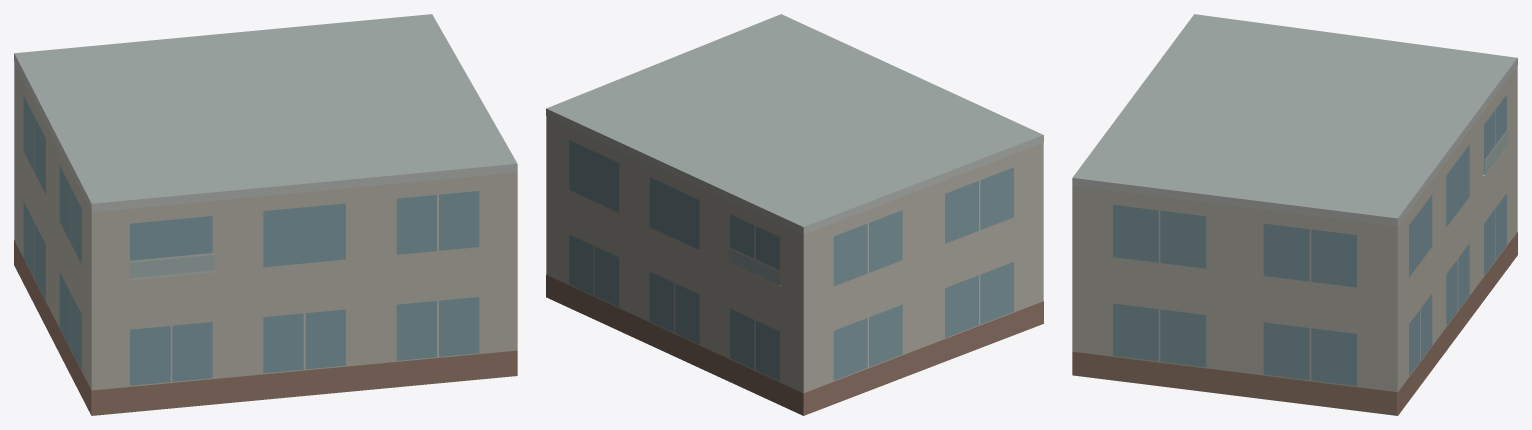
The model's file is survey-upis-32942528.glb.
3 views of the same model, side by side, from view 1: azimuth 30°, elevation 25°; view 2: azimuth 150°, elevation 25°; view 3: azimuth 270°, elevation 25° (orthographic). The views are drawn at different scales.
Visible parts, largest first — view 1: survey-upis-32942528.tmp; view 2: survey-upis-32942528.tmp; view 3: survey-upis-32942528.tmp.
Boxes of the visible parts, bbox=[...] form: survey-upis-32942528.tmp: bbox=[14, 14, 517, 415]; survey-upis-32942528.tmp: bbox=[546, 14, 1043, 415]; survey-upis-32942528.tmp: bbox=[1072, 14, 1517, 415].
Size of the model in its own units: 13.55 by 6.1 by 12.48.
